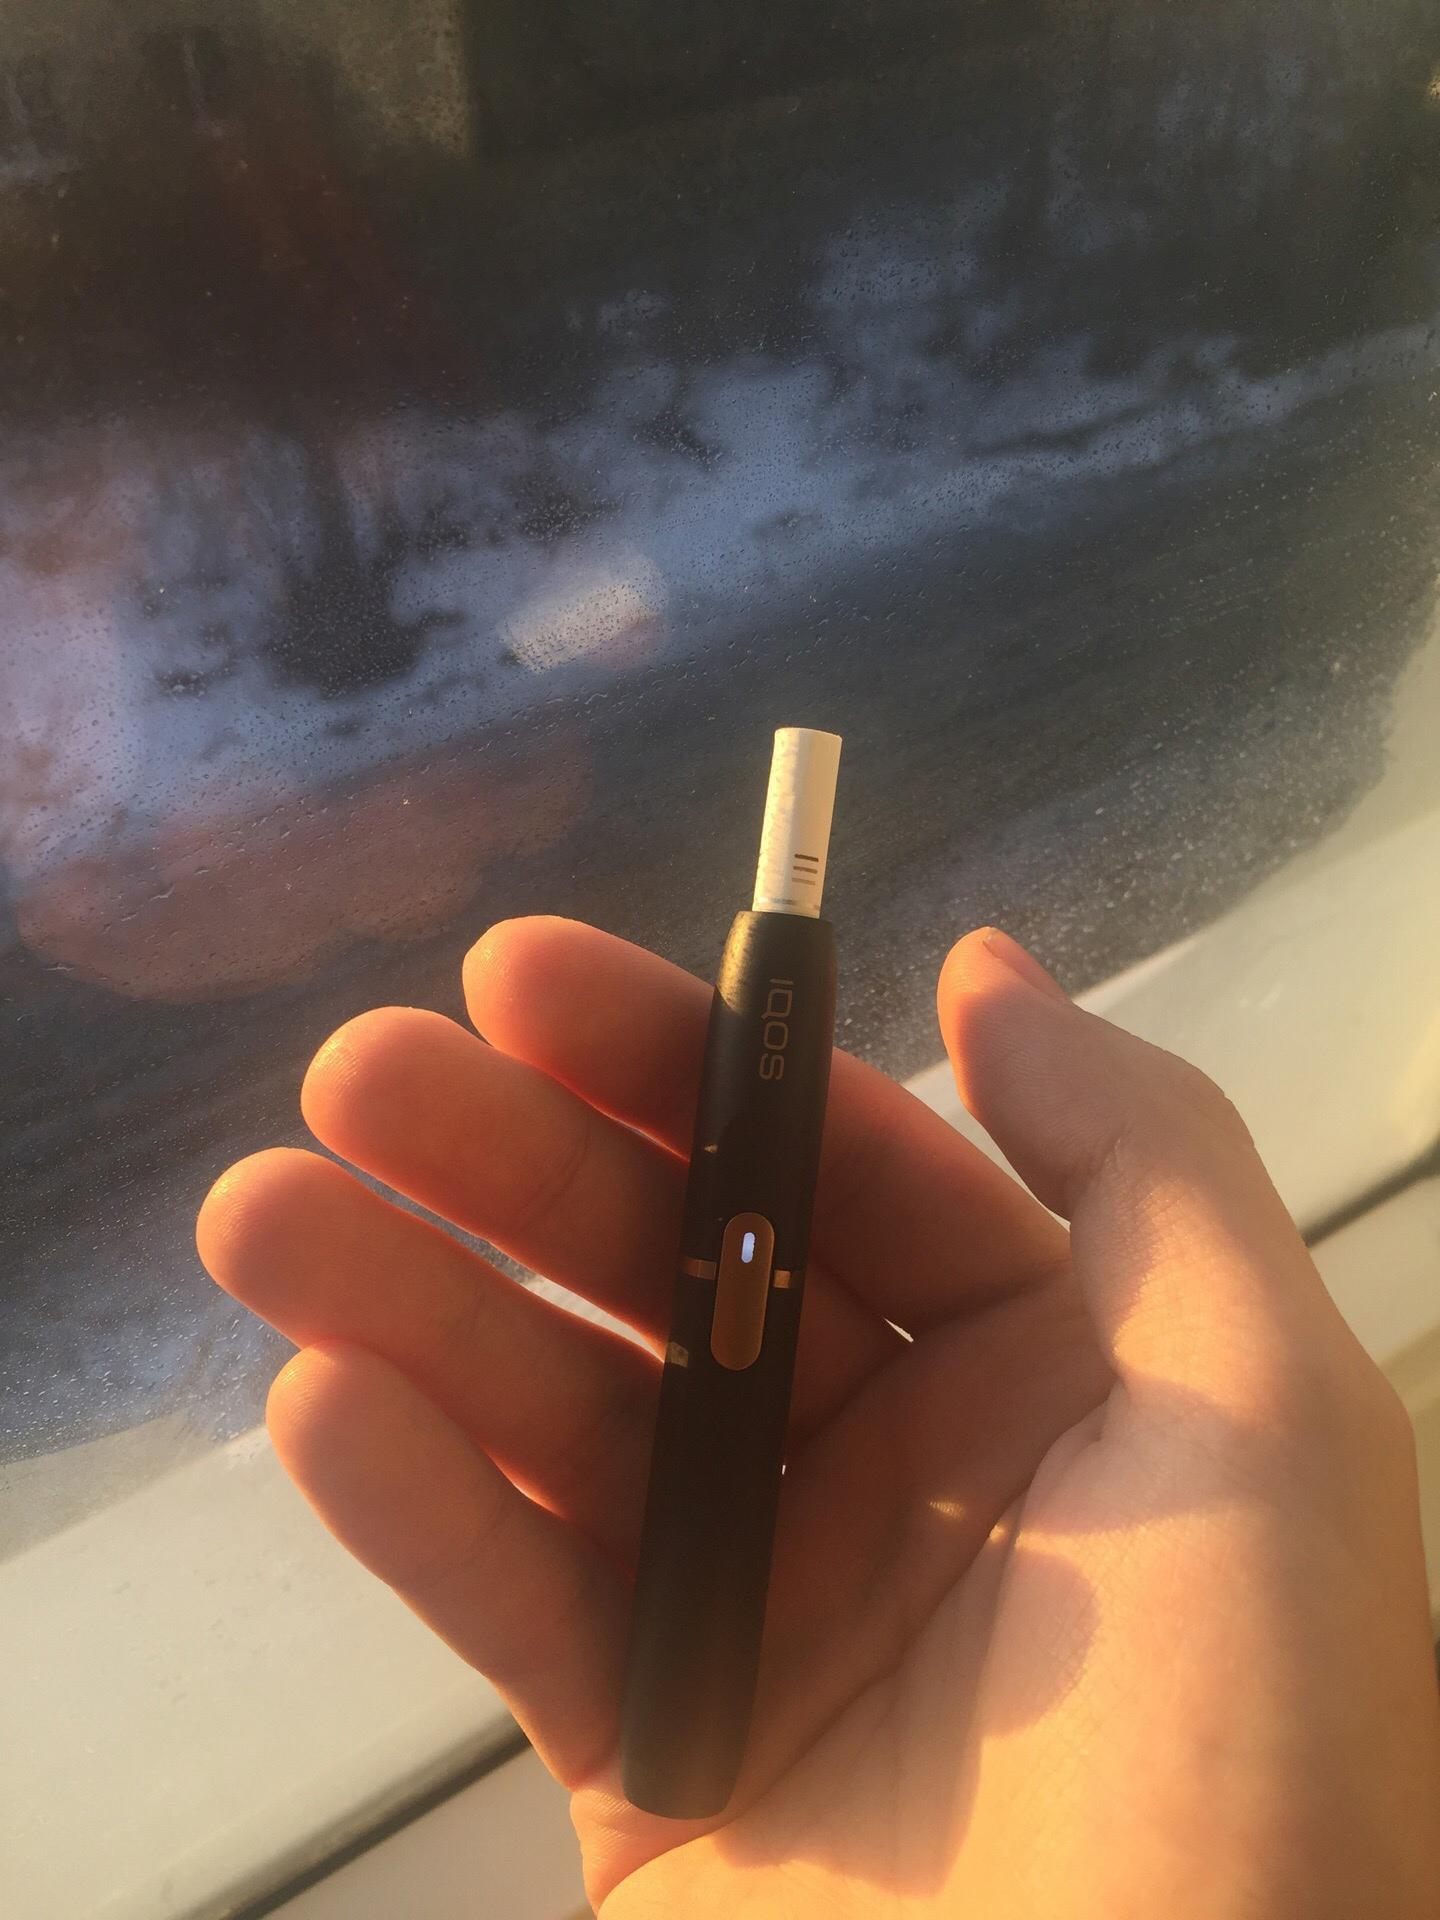iqos: (625, 729, 841, 1811)
